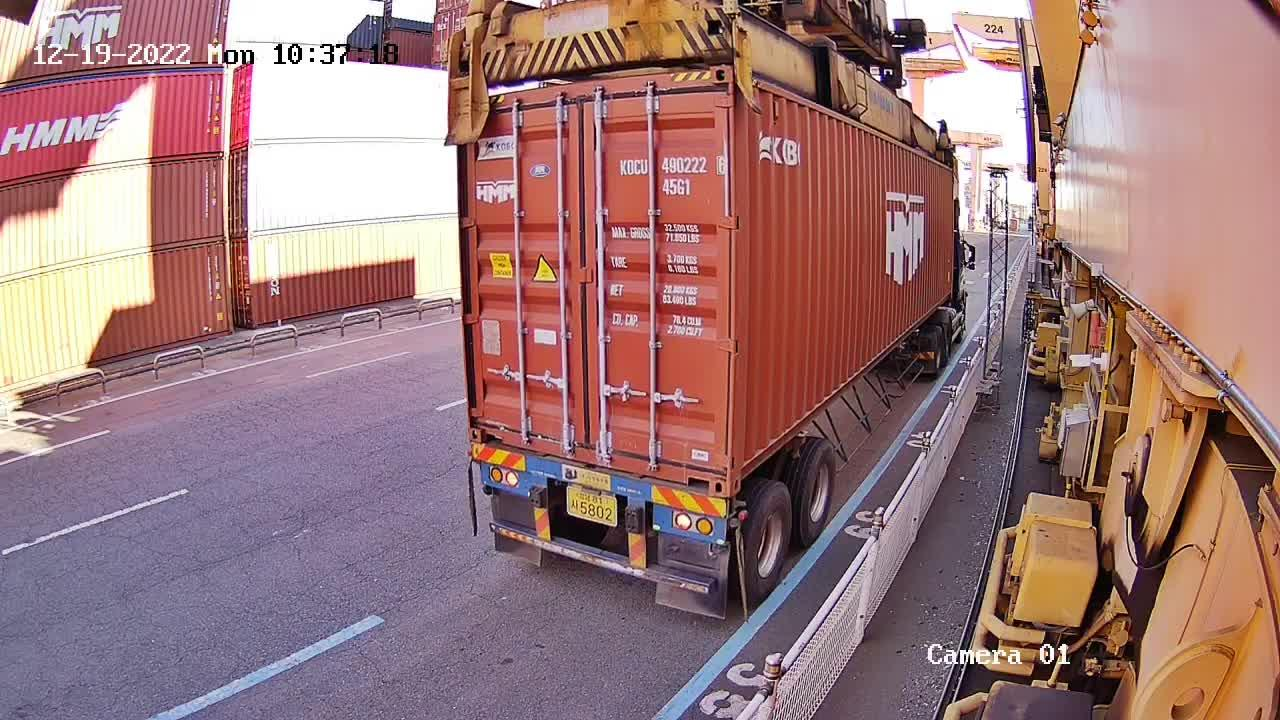Chassis: (468, 446, 731, 534)
Cone: (727, 495, 742, 522)
Hole_L: (731, 426, 759, 498), (469, 399, 506, 448)
Hole_R: (679, 442, 730, 500)
Tire: (740, 488, 792, 596), (798, 440, 838, 538)
